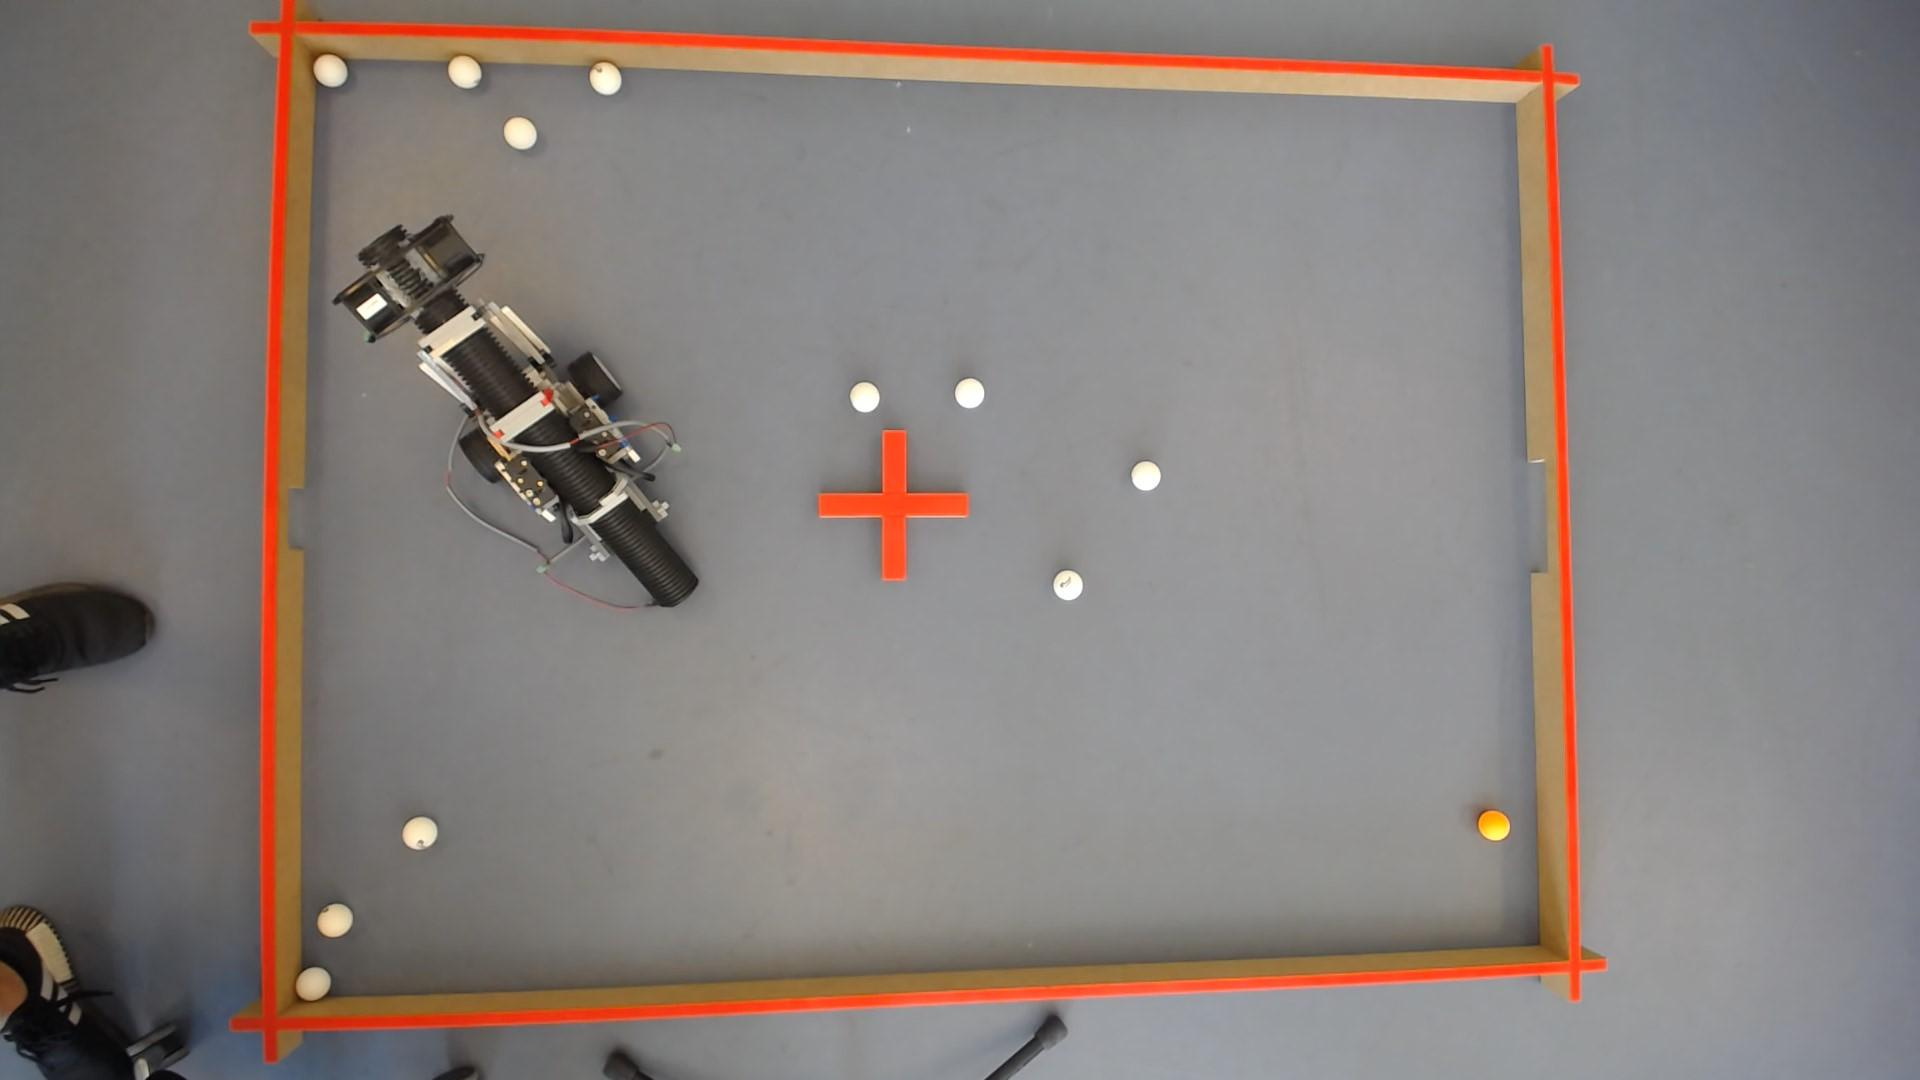orange: (1480, 810, 1513, 841)
robot: (335, 215, 698, 605)
white: (314, 903, 352, 939), (293, 967, 328, 1002), (446, 51, 481, 86), (401, 818, 436, 851), (311, 51, 345, 84), (502, 113, 535, 148), (588, 59, 621, 92), (1054, 568, 1084, 600), (851, 380, 880, 410), (956, 377, 985, 406), (1133, 460, 1162, 489)
